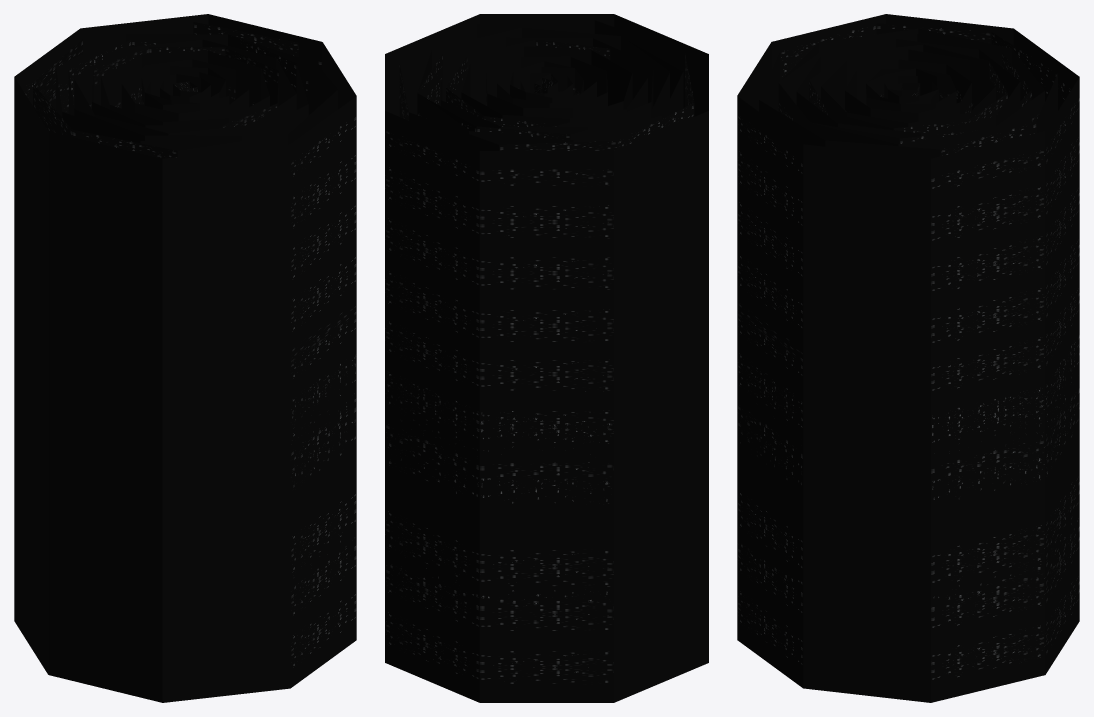
The model's file is dojo.glb.
3 renders of one model, left to right at view 1: azimuth 30°, elevation 25°; view 2: azimuth 150°, elevation 25°; view 3: azimuth 270°, elevation 25°, orthographic.
Parts seen in each view (by area): view 1: Rain1_Rain_0, Rain2_Rain_0; view 2: Rain1_Rain_0, Rain2_Rain_0; view 3: Rain1_Rain_0, Rain2_Rain_0.
Part boxes in pixels (box(x1,y1,x2,y2)): Rain1_Rain_0: box(14, 14, 356, 465); Rain2_Rain_0: box(14, 315, 356, 702); Rain1_Rain_0: box(385, 14, 708, 462); Rain2_Rain_0: box(385, 361, 708, 702); Rain1_Rain_0: box(737, 14, 1079, 465); Rain2_Rain_0: box(737, 327, 1079, 702).
Size of the model in its own units: 73.66 by 129 by 73.66.
18 materials, 18 textured.
